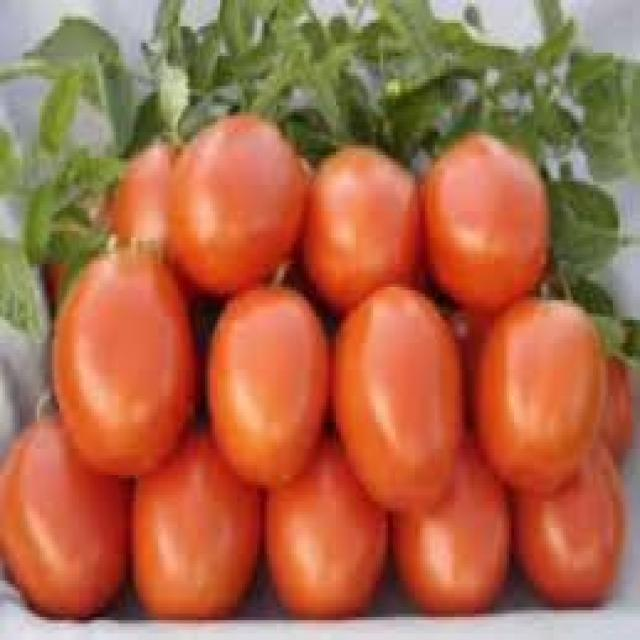Fresh_tomato: (342, 305, 463, 523), (64, 254, 185, 459), (3, 420, 120, 630), (492, 297, 602, 492), (444, 130, 548, 310), (306, 144, 427, 292), (185, 130, 301, 273)
